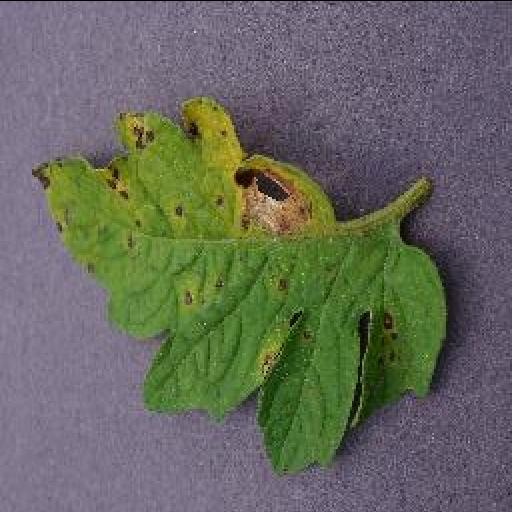disease_tomato: (27, 97, 445, 470)
